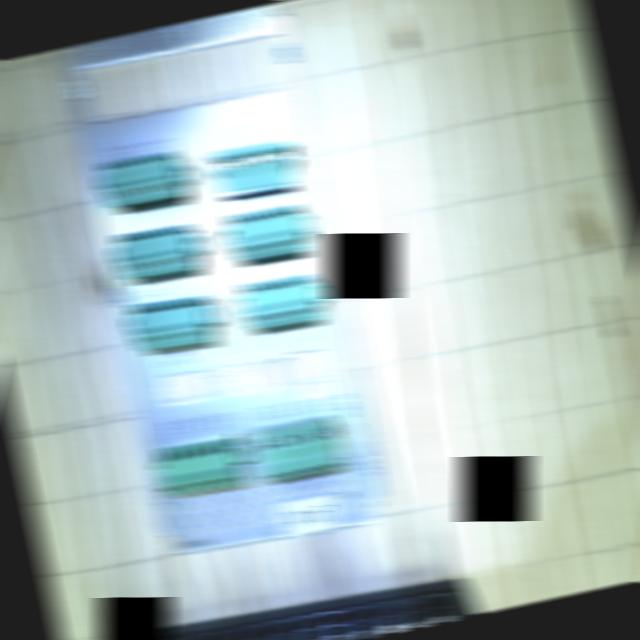Terminal_1: (254, 420, 343, 483), (154, 436, 244, 496)
Terminal_2: (97, 150, 184, 208), (111, 222, 198, 279), (225, 203, 310, 261), (239, 272, 323, 330), (126, 294, 212, 350)
